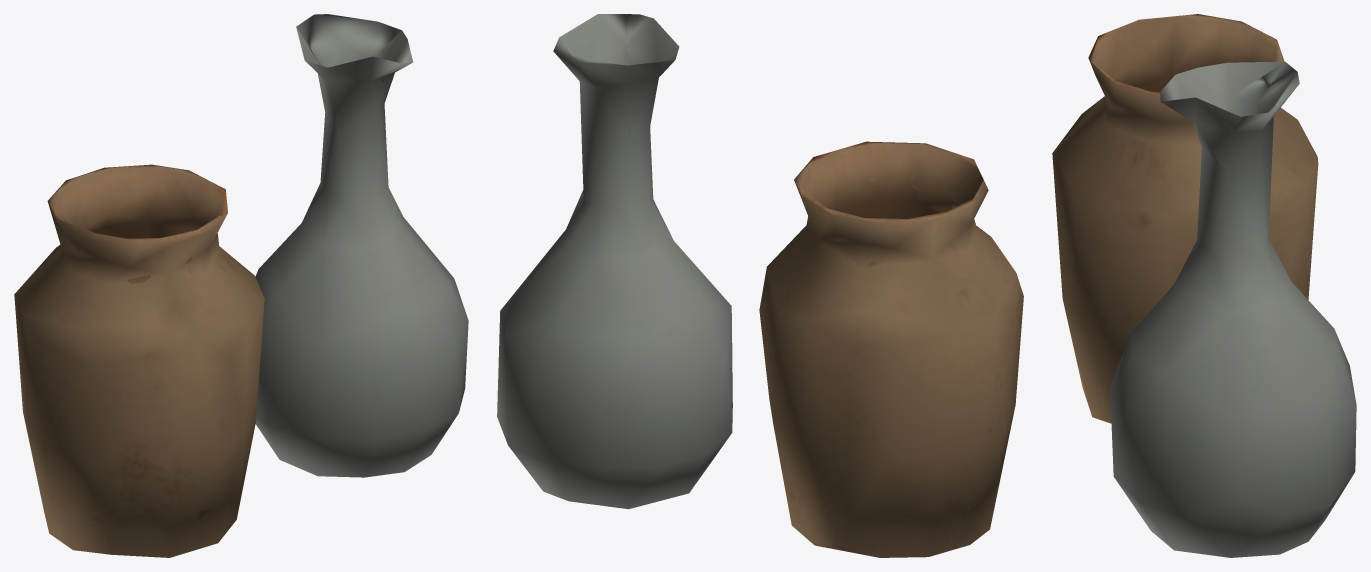
Rendered from VasePair.glb.
3 views of the same model, side by side, from view 1: azimuth 30°, elevation 25°; view 2: azimuth 150°, elevation 25°; view 3: azimuth 270°, elevation 25° (orthographic). The views are drawn at different scales.
Parts seen in each view (by area): view 1: VasePair; view 2: VasePair; view 3: VasePair.
Part boxes in pixels (<box>): VasePair: <box>14,14,468,557</box>; VasePair: <box>497,14,1023,557</box>; VasePair: <box>1052,14,1356,557</box>.
Bounding box in the file's own units: 0.4524 × 0.4019 × 0.2477.
2 materials, 2 textured.
